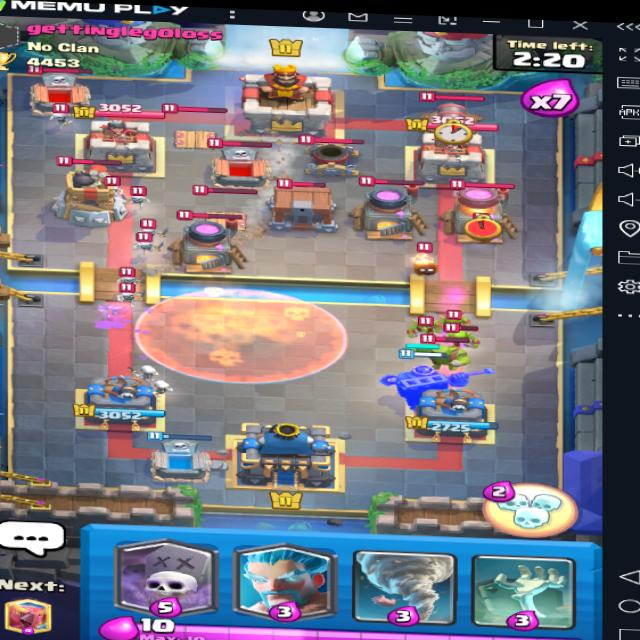bomb-tower: (52, 153, 125, 229)
brawler: (413, 332, 476, 373)
cannon: (410, 88, 495, 142)
fire-spirit: (402, 239, 442, 278)
furnace: (439, 177, 525, 246), (170, 207, 251, 274), (352, 175, 431, 240)
goblin: (432, 306, 477, 335), (443, 322, 482, 354), (411, 312, 448, 344)
goblin-cage: (270, 176, 338, 229)
mortar: (292, 130, 365, 180)
skeleton: (107, 268, 149, 292), (110, 280, 150, 305), (98, 178, 131, 206), (132, 230, 166, 254), (135, 219, 167, 243), (128, 187, 157, 211), (50, 107, 75, 129), (65, 155, 84, 179)
tesla-closed: (156, 96, 227, 152), (194, 184, 259, 232)
tombstone: (19, 64, 92, 117), (206, 138, 273, 189)
